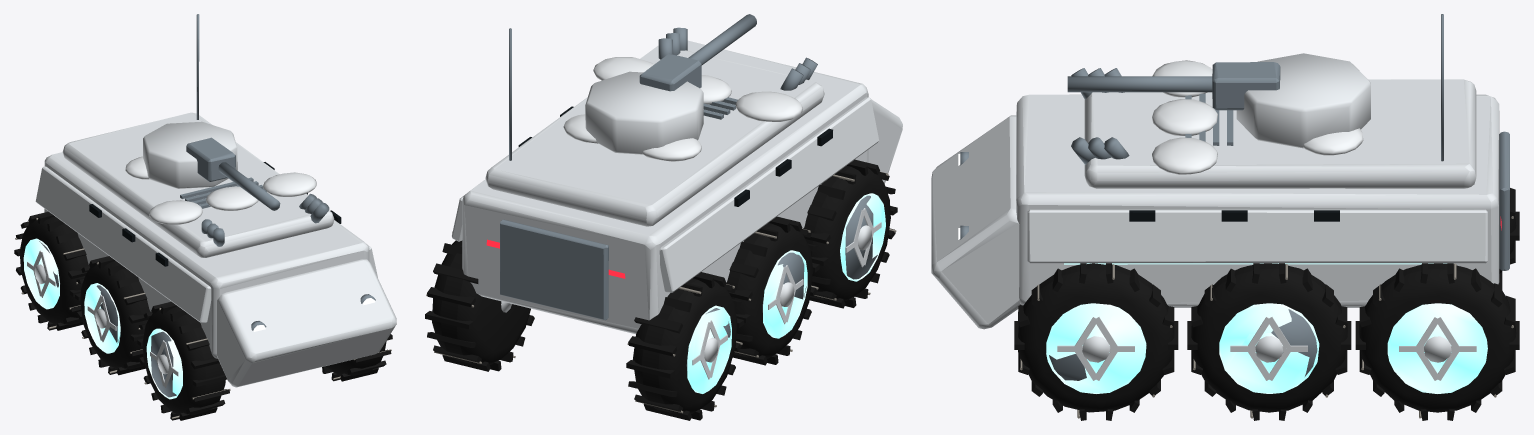
Rendered from apc_arktis.glb.
3 views of the same model, side by side, from view 1: azimuth 30°, elevation 25°; view 2: azimuth 150°, elevation 25°; view 3: azimuth 270°, elevation 25° (orthographic). The views are drawn at different scales.
Visible parts, largest first — view 1: krop_net; view 2: krop_net; view 3: krop_net.
Boxes of the visible parts, bbox=[...] form: krop_net: bbox=[14, 14, 396, 420]; krop_net: bbox=[425, 14, 902, 420]; krop_net: bbox=[931, 14, 1519, 420].
Size of the model in its own units: 1.21 by 1.54 by 2.17.
